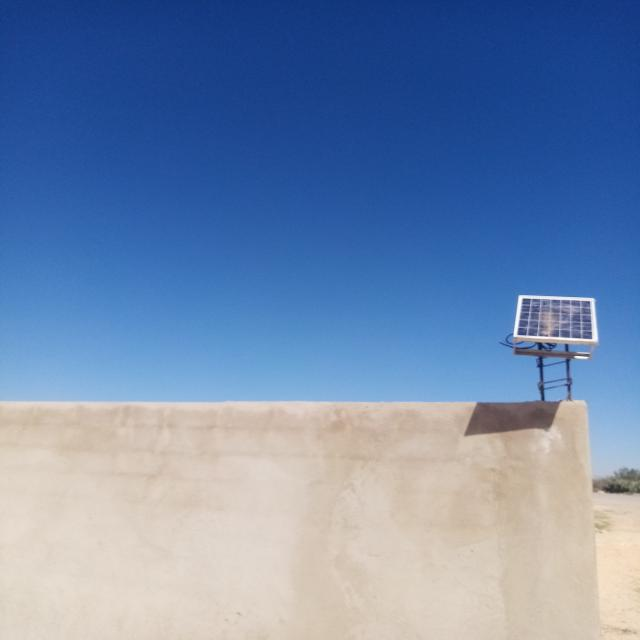faulty: (513, 295, 598, 341)
